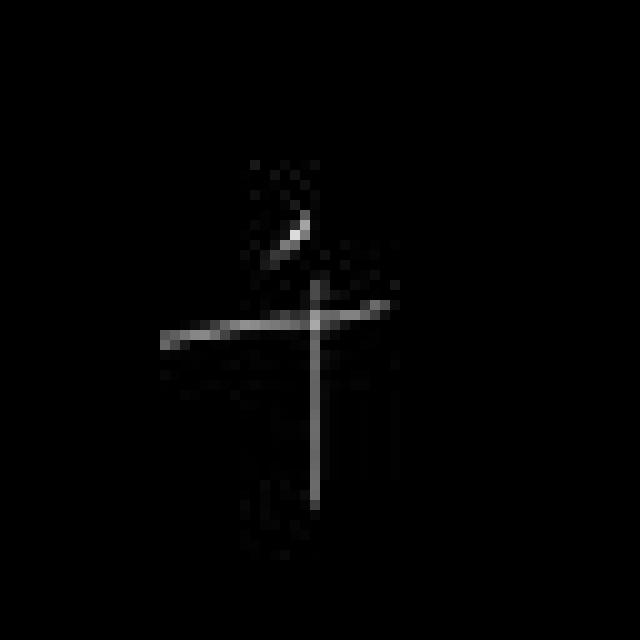1000 -a thousand-: (147, 204, 403, 509)
